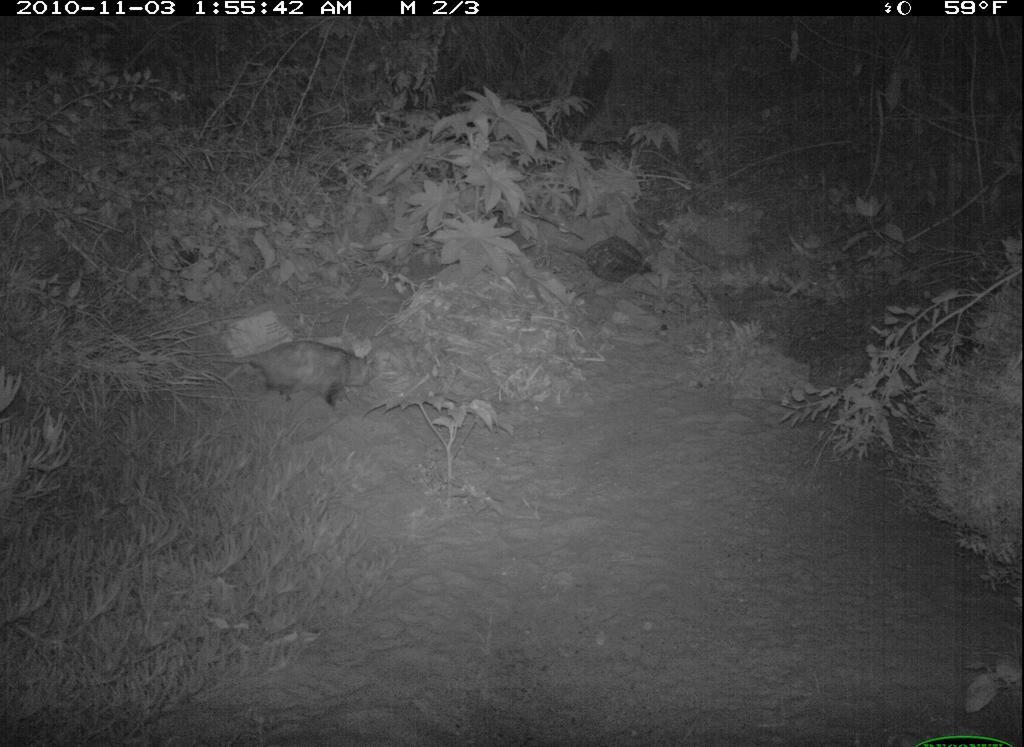opossum: (191, 333, 381, 406)
